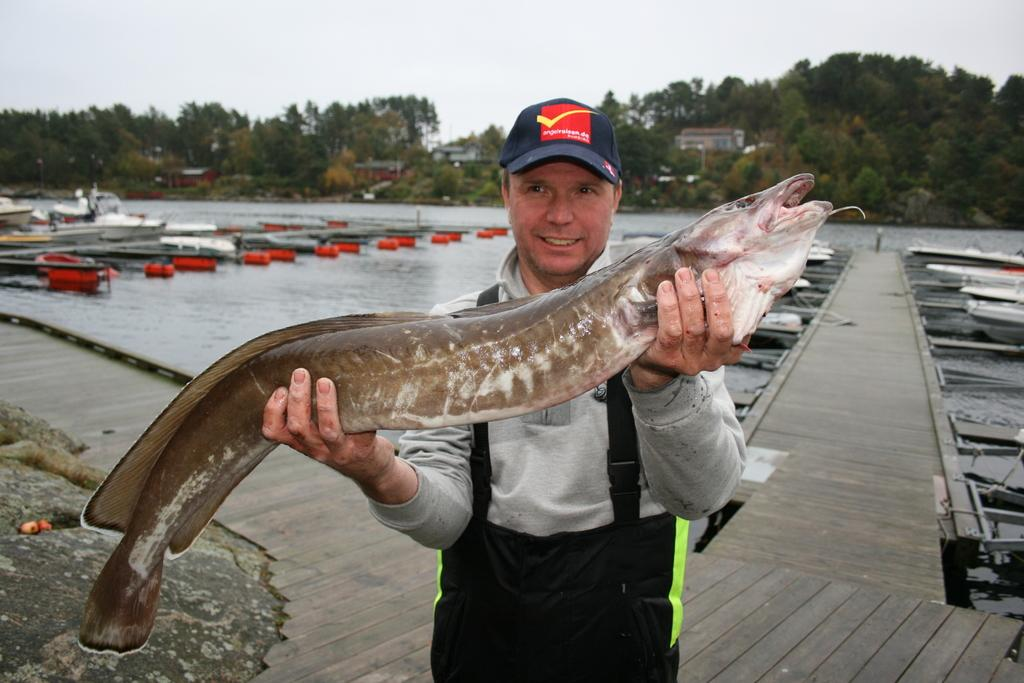Hat: (500, 93, 624, 187)
